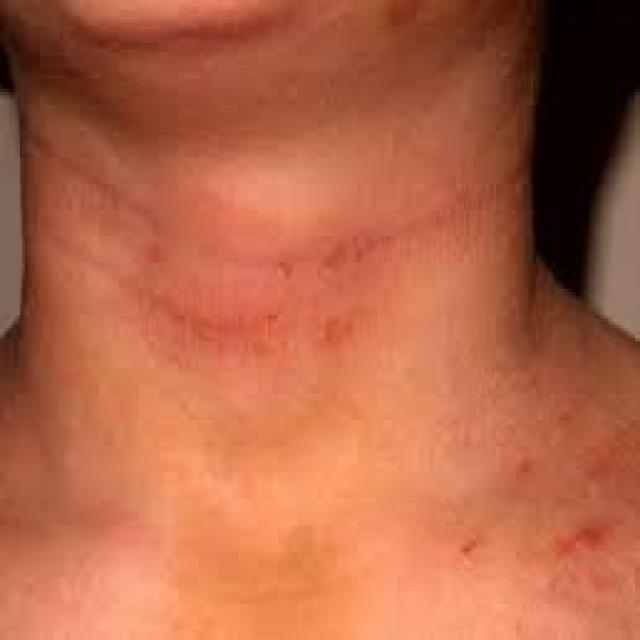Acanthosis Nigricans: (22, 86, 527, 439)
